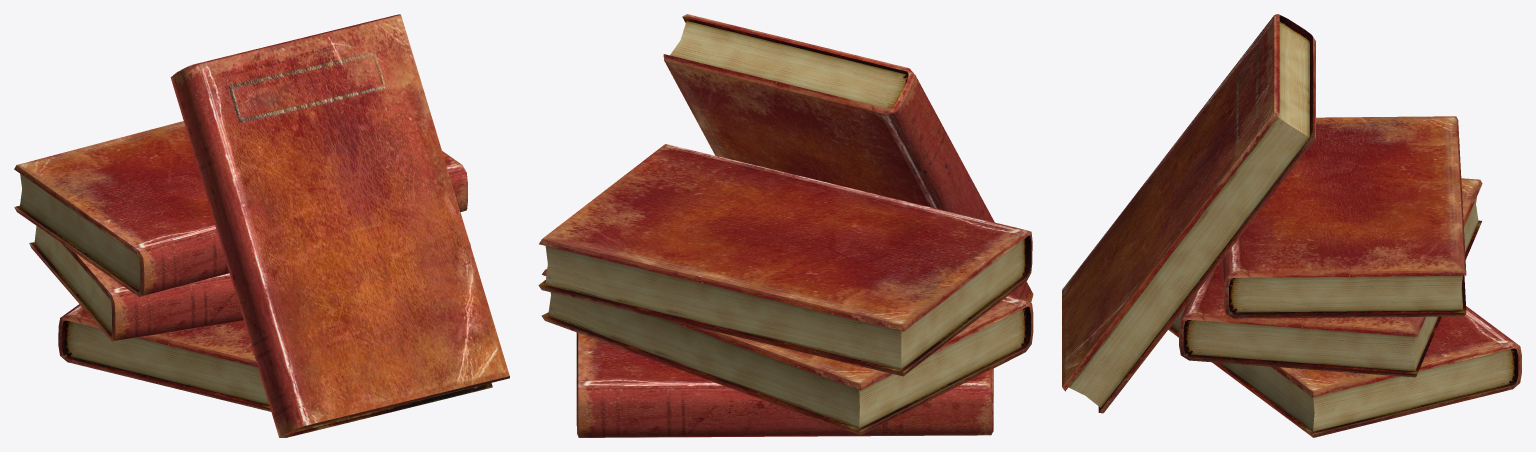
The model's file is book.gltf.
3 renders of one model, left to right at view 1: azimuth 30°, elevation 25°; view 2: azimuth 150°, elevation 25°; view 3: azimuth 270°, elevation 25°, orthographic. The views are drawn at different scales.
Parts seen in each view (by area): view 1: Cube.002; view 2: Cube.002; view 3: Cube.002.
Boxes of the visible parts, x1,y1,x2,y2 form: Cube.002: [14, 14, 509, 437]; Cube.002: [538, 14, 1033, 437]; Cube.002: [1062, 14, 1521, 437].
Size of the model in its own units: 743 by 557 by 771.
1 material, 1 textured.
